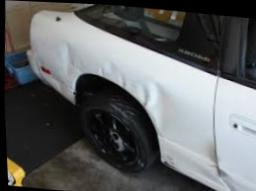Door: (39, 26, 184, 137), (158, 130, 251, 191)
